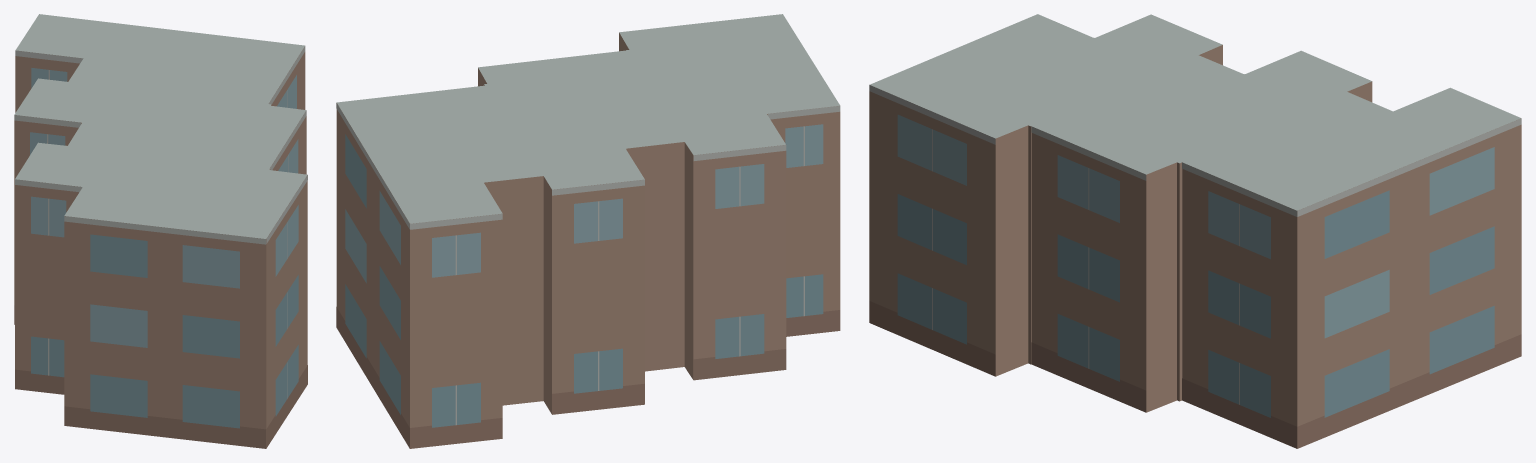
The model's file is survey-upis-33047014.glb.
3 views of the same model, side by side, from view 1: azimuth 30°, elevation 25°; view 2: azimuth 150°, elevation 25°; view 3: azimuth 270°, elevation 25° (orthographic). The views are drawn at different scales.
Visible parts, largest first — view 1: survey-upis-33047014.tmp; view 2: survey-upis-33047014.tmp; view 3: survey-upis-33047014.tmp.
Part boxes in pixels (x1=…): survey-upis-33047014.tmp: x1=14, y1=14, x2=307, y2=448; survey-upis-33047014.tmp: x1=336, y1=14, x2=840, y2=448; survey-upis-33047014.tmp: x1=869, y1=14, x2=1521, y2=448.
Bounding box in the file's own units: 16.23 × 9.15 × 22.72.
